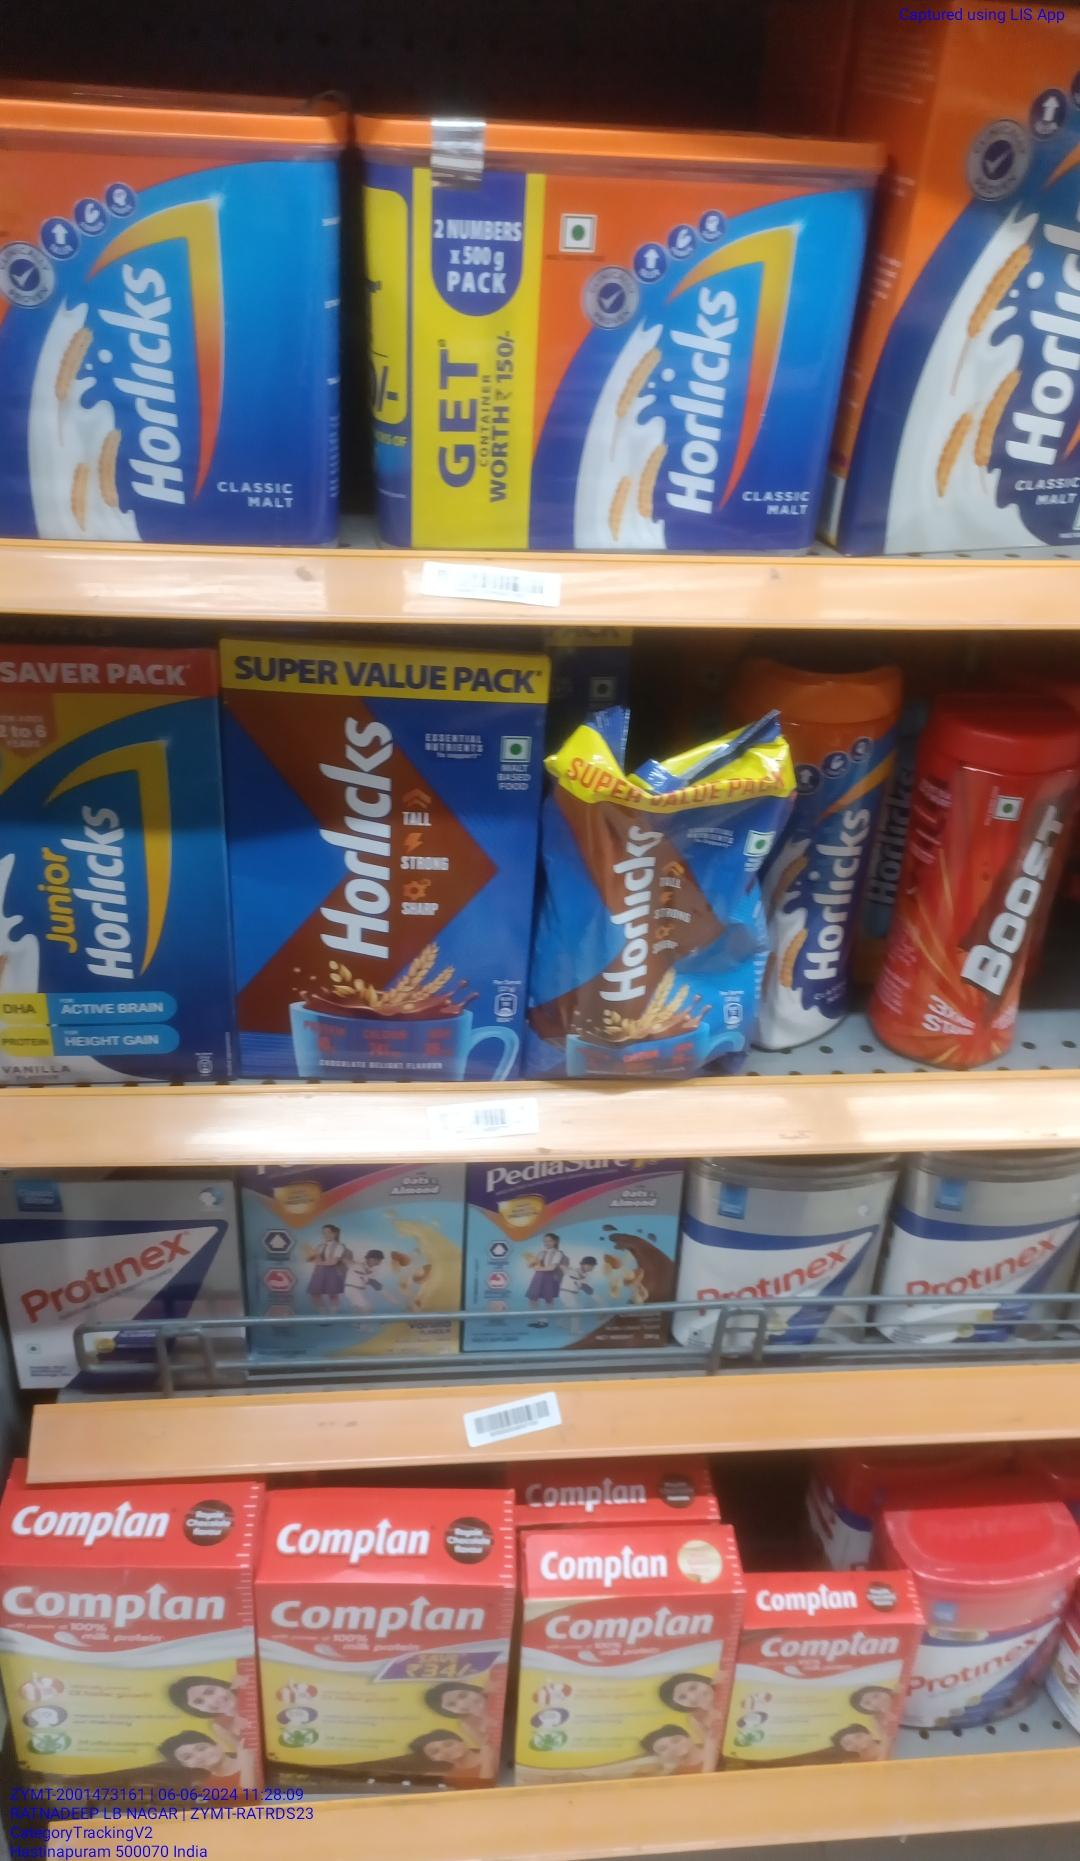COMPLAN_CHOCOLATE_200_GMS_PACK: (738, 1621, 908, 1799)
HORLICK_CHOCOLATE_1_KG_PACK: (226, 646, 535, 1107)
HORLICK_MALT_1_KG_CONTAINER: (387, 95, 834, 568), (0, 89, 342, 558)
PEDIASURE_7_PLUS_CHOCOLATE_400_G_PACK: (474, 1150, 675, 1362)
PROTINEX_CHOCOLATE_400_G_JAR: (917, 1549, 1080, 1761)
PROTINEX_ORIGINAL_400_G_JAR: (693, 1158, 883, 1370), (899, 1161, 1080, 1355)
